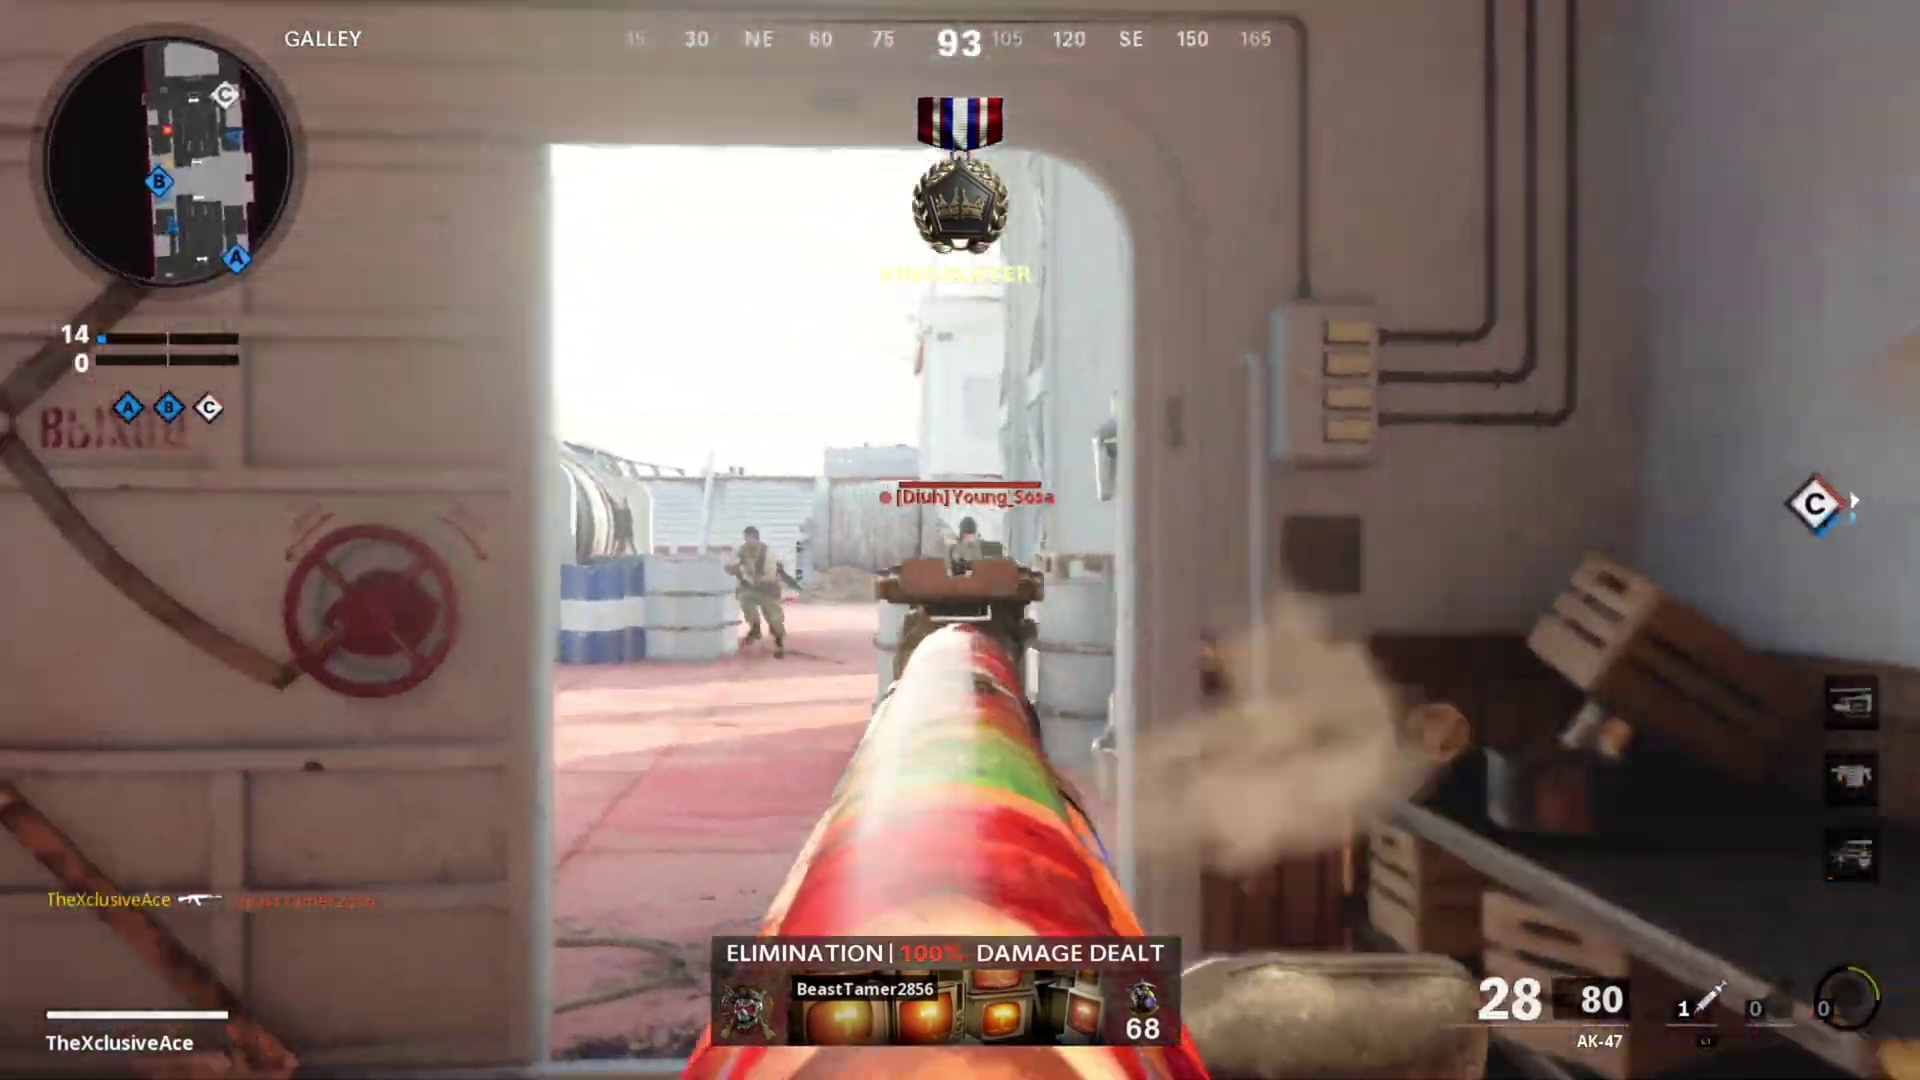head: (953, 515, 981, 546), (739, 522, 765, 554)
person: (726, 524, 792, 659)
